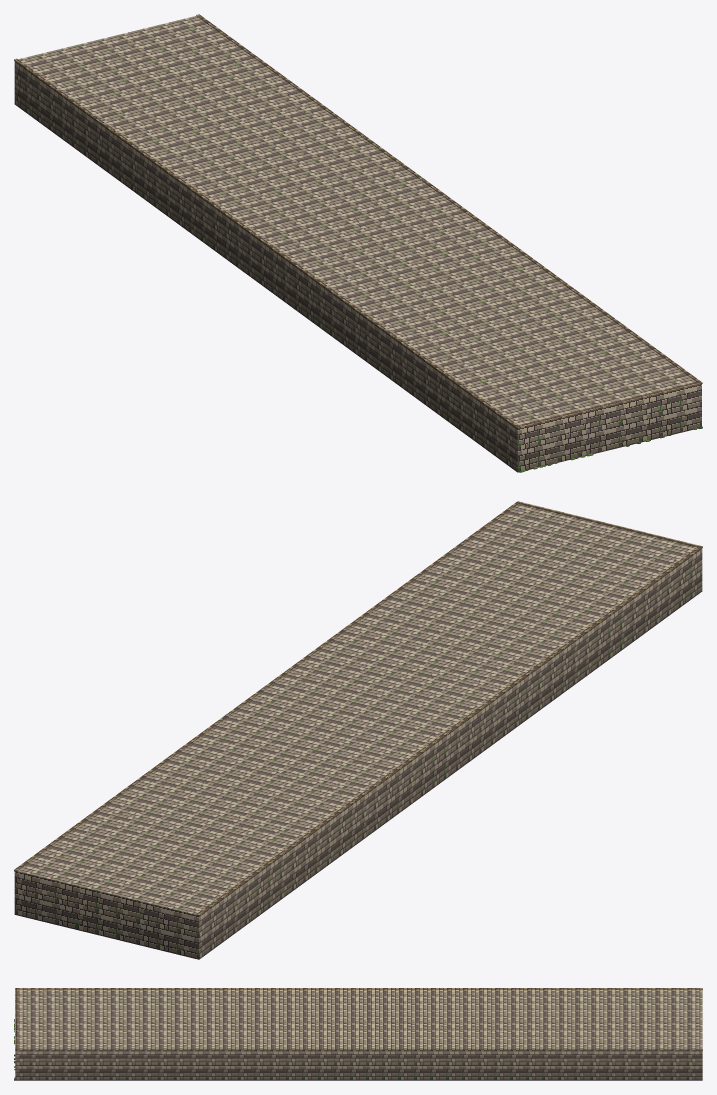
Rendered from scene_wall_w.glb.
3 views of the same model, one above another, from view 1: azimuth 30°, elevation 25°; view 2: azimuth 150°, elevation 25°; view 3: azimuth 270°, elevation 25° (orthographic). The views are drawn at different scales.
Visible parts, largest first — view 1: scene_wall_w; view 2: scene_wall_w; view 3: scene_wall_w.
Part boxes in pixels (box(x1,y1,x2,y2)): scene_wall_w: box(14, 14, 702, 472); scene_wall_w: box(14, 501, 702, 959); scene_wall_w: box(14, 988, 702, 1080).
Bounding box in the file's own units: 21.92 × 5.17 × 103.
Materials: 2 (1 with a texture image).
